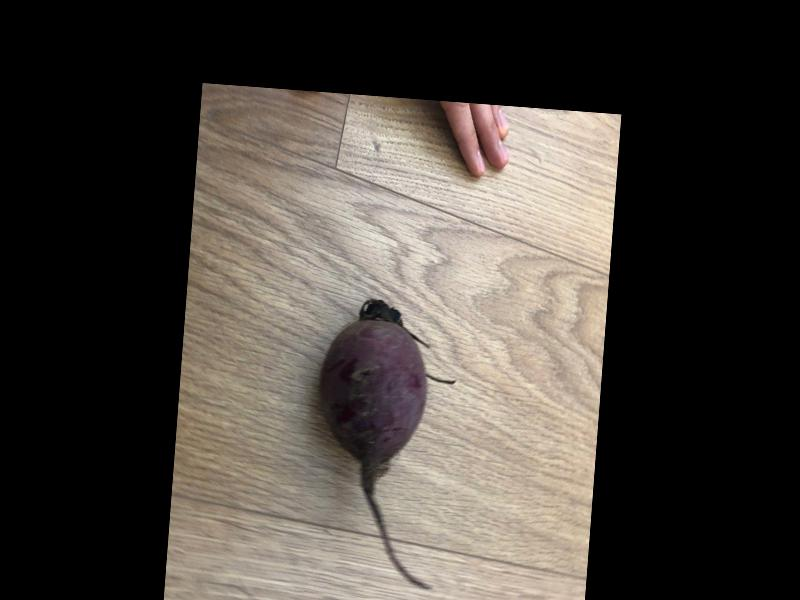Beet: (307, 297, 460, 591)
